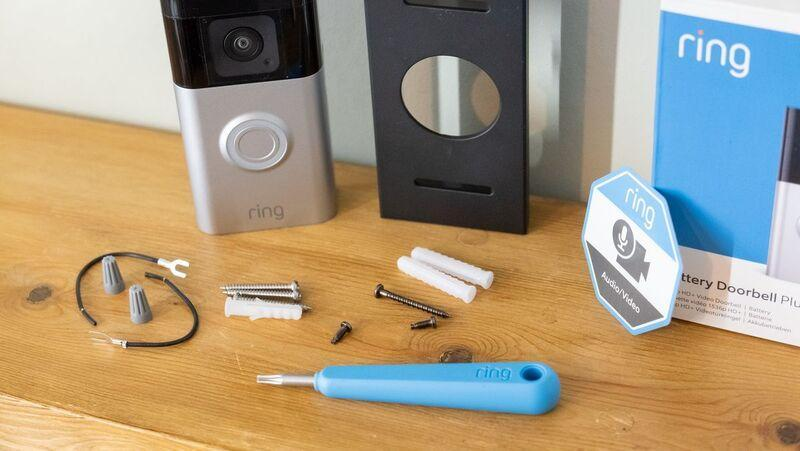doorbell: (160, 0, 329, 219)
